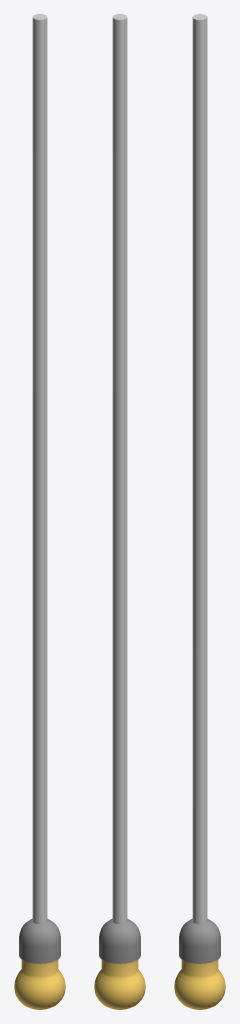
The model's file is Light Bulb.FBX.
3 views of the same model, side by side, from view 1: azimuth 30°, elevation 25°; view 2: azimuth 150°, elevation 25°; view 3: azimuth 330°, elevation 25° (orthographic).
Parts seen in each view (by area): view 1: Light_Wire, Light; view 2: Light_Wire, Light; view 3: Light_Wire, Light.
Boxes of the visible parts, x1,y1,x2,y2 form: Light_Wire: (32,14,47,924); Light: (14,918,65,1009); Light_Wire: (112,14,127,924); Light: (94,918,145,1009); Light_Wire: (192,14,207,924); Light: (174,918,225,1009).
Size of the model in its own units: 3.01 by 63.57 by 3.01.
